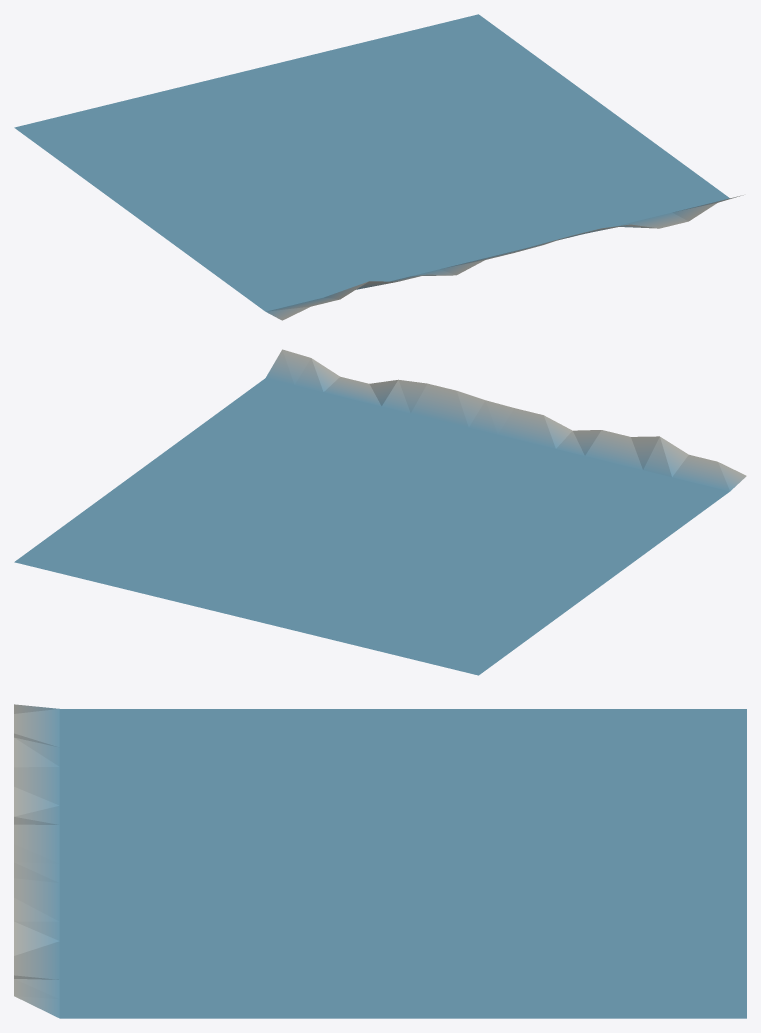
3 views of the same model, one above another, from view 1: azimuth 30°, elevation 25°; view 2: azimuth 150°, elevation 25°; view 3: azimuth 270°, elevation 25° (orthographic). The views are drawn at different scales.
Bounding box in the file's own units: 32 × 1.42 × 32.
